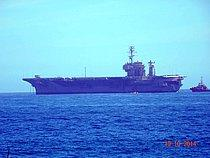MIL_Ship: (21, 44, 187, 94)
